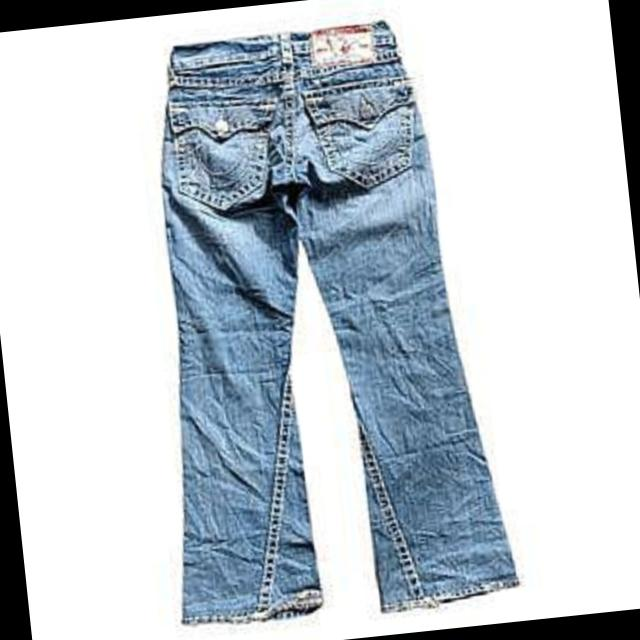TROUSER: (107, 1, 536, 640)
